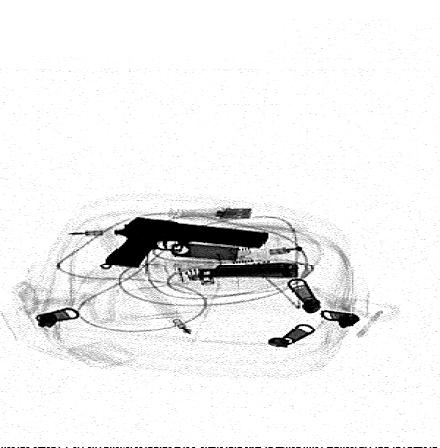Gun: (104, 215, 273, 269)
